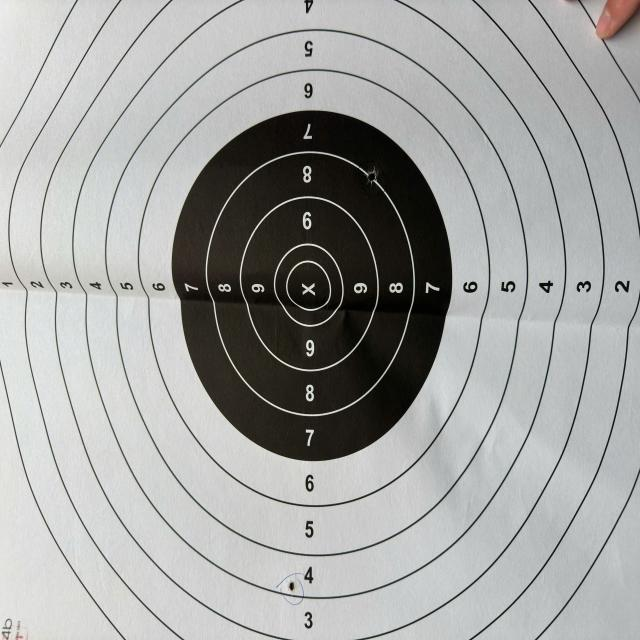bullet: (366, 166, 379, 187), (288, 579, 296, 591)
target: (0, 0, 640, 637)
